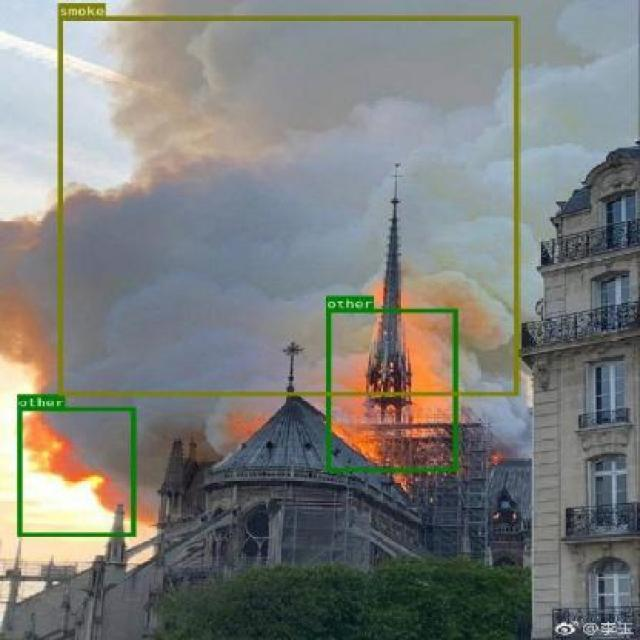Smoke: (57, 16, 517, 395)
